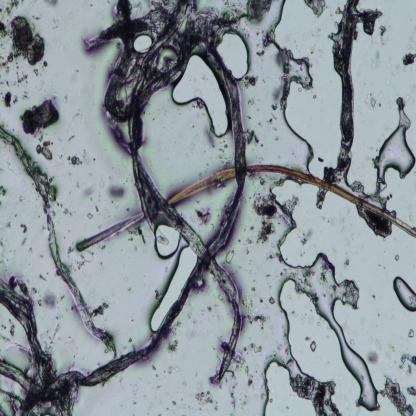Air bubble: (275, 245, 380, 411), (171, 56, 230, 140), (147, 240, 196, 332), (369, 123, 416, 204), (260, 358, 318, 416), (216, 31, 252, 79), (152, 222, 180, 257), (392, 275, 416, 313), (132, 32, 152, 57)
Background material: (0, 13, 44, 70), (290, 376, 342, 416), (253, 193, 283, 248), (354, 206, 394, 246), (20, 95, 58, 137), (381, 374, 416, 414), (277, 48, 290, 108), (243, 300, 269, 329), (35, 287, 59, 314), (266, 97, 282, 135), (245, 0, 273, 21), (358, 81, 378, 108), (34, 137, 54, 162), (104, 183, 127, 204), (396, 352, 416, 376), (193, 388, 217, 406), (0, 74, 29, 88), (305, 0, 326, 18), (168, 324, 180, 355), (194, 204, 210, 226), (59, 126, 78, 142), (1, 1, 21, 16), (0, 92, 18, 108), (66, 152, 82, 170), (198, 299, 214, 317), (92, 300, 108, 318), (245, 129, 261, 146), (242, 344, 261, 358), (18, 226, 30, 248), (246, 368, 256, 391), (244, 73, 258, 88), (376, 24, 391, 38), (263, 29, 273, 49), (366, 350, 379, 364), (401, 53, 416, 65), (166, 356, 175, 373), (18, 222, 28, 234), (254, 48, 266, 58), (0, 184, 7, 199), (309, 341, 317, 352)
Cellulose filter fibre: (64, 25, 242, 391), (87, 3, 241, 382), (0, 124, 117, 355), (0, 277, 78, 414), (325, 0, 360, 180)
